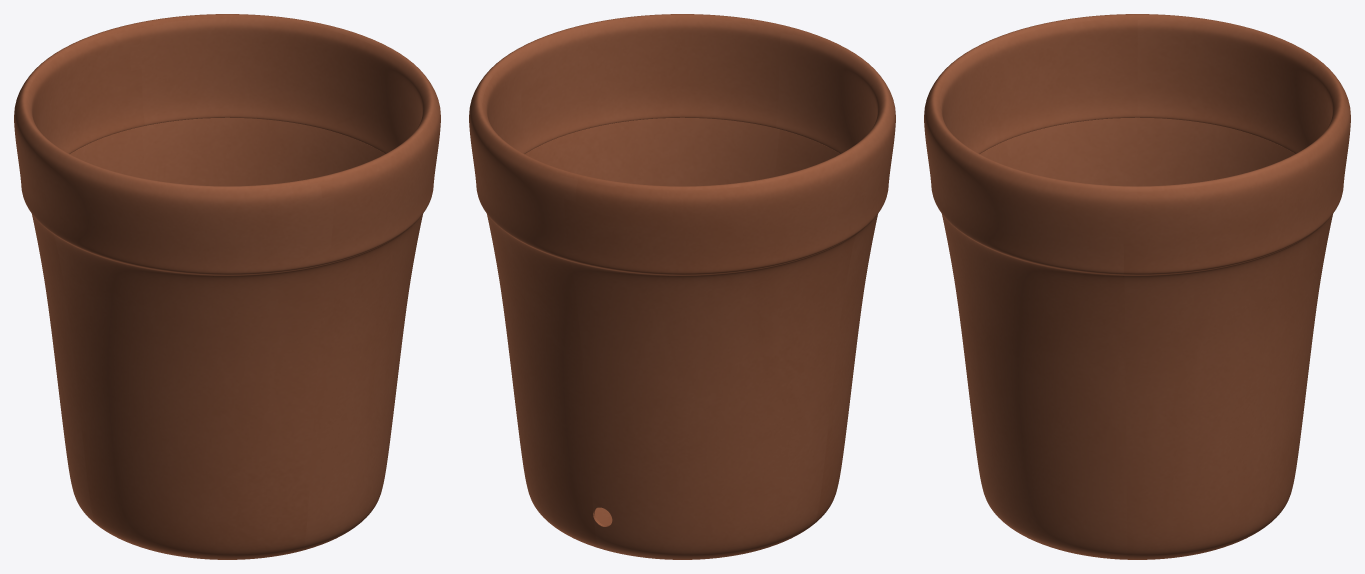
The model's file is c89a2dc2-736b-4a0c-9bae-01a39c2eafe4.glb.
3 views of the same model, side by side, from view 1: azimuth 30°, elevation 25°; view 2: azimuth 150°, elevation 25°; view 3: azimuth 270°, elevation 25° (orthographic).
Visible parts, largest first — view 1: Cube; view 2: Cube; view 3: Cube.
Boxes of the visible parts, <box> form: Cube: <box>14,14,440,559</box>; Cube: <box>469,14,895,559</box>; Cube: <box>924,14,1350,559</box>.
Size of the model in its own units: 5.81 by 6.09 by 5.81.
Materials: 1 (1 with a texture image).
